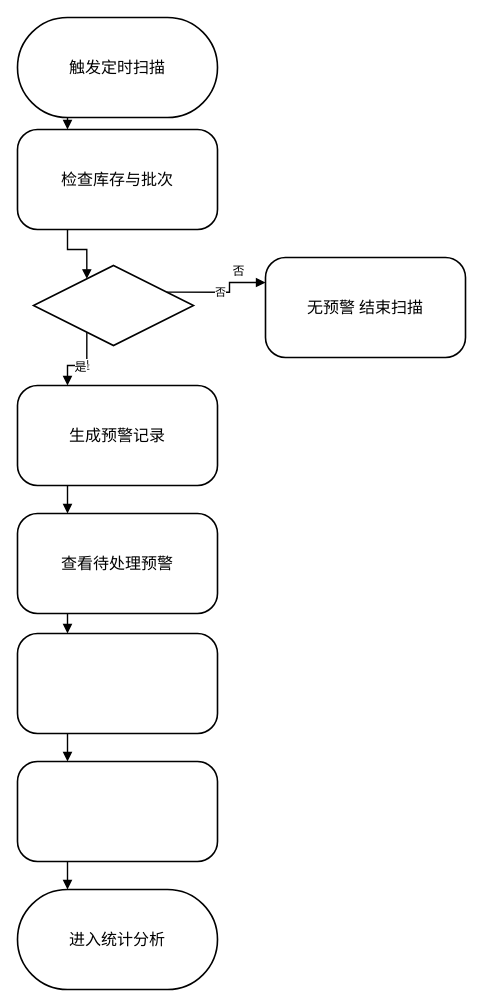
Image size: 484x1008. Some labels were removed from this diagram. Each missing label, with the centre of its shape:
"发现异常？" goes at [113,305].
"填写说明 更新状态" goes at [117,683].
"按需发送通知" goes at [117,811].
